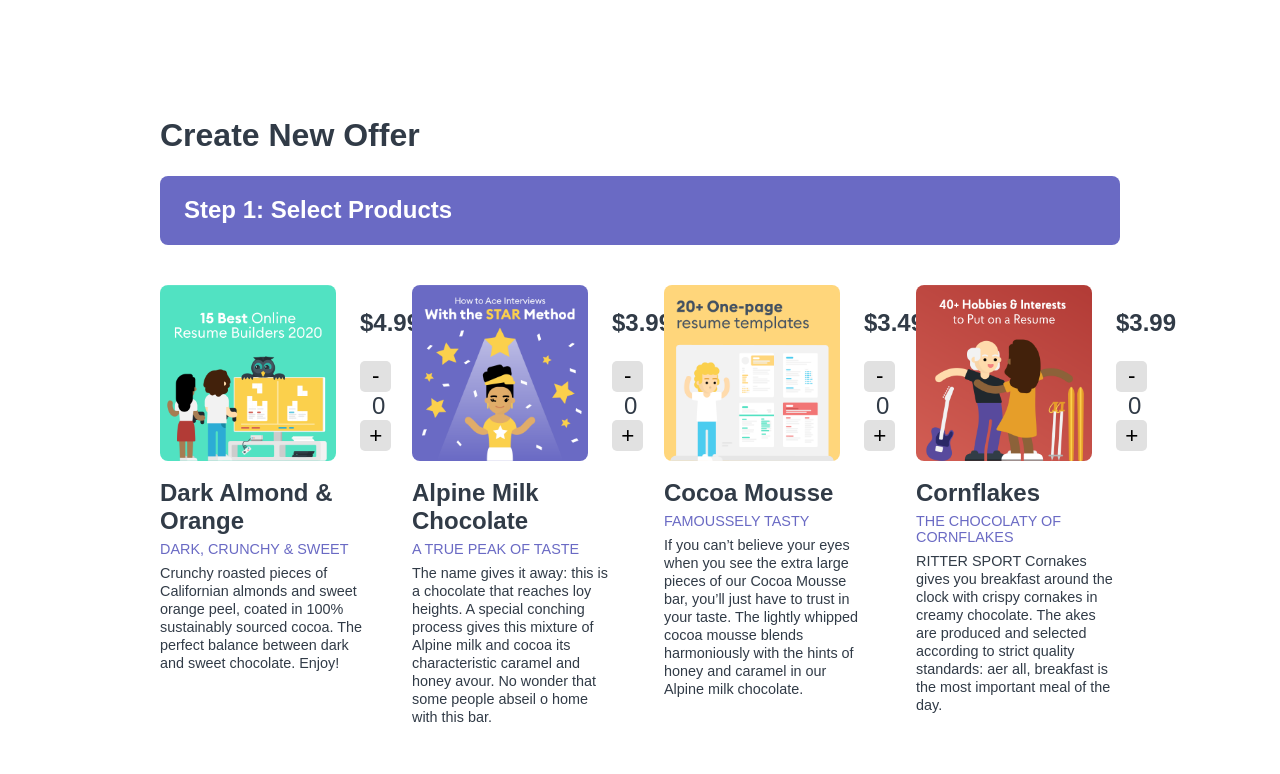
Scenario: Store › store products › should add items to order
Click the 1st button with class "add".
click(376, 436)  # box [360,420,391,451]
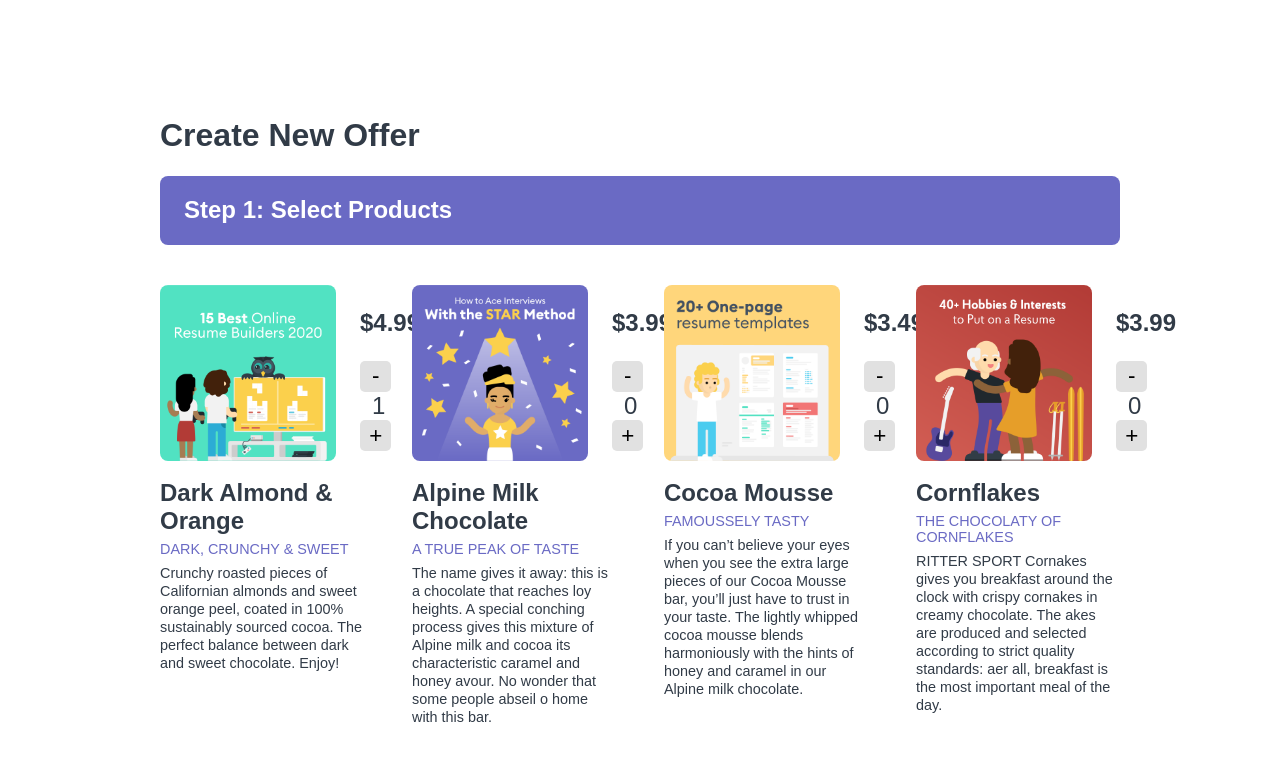
Result: the text "1" is shown at [372,392,385,419]
